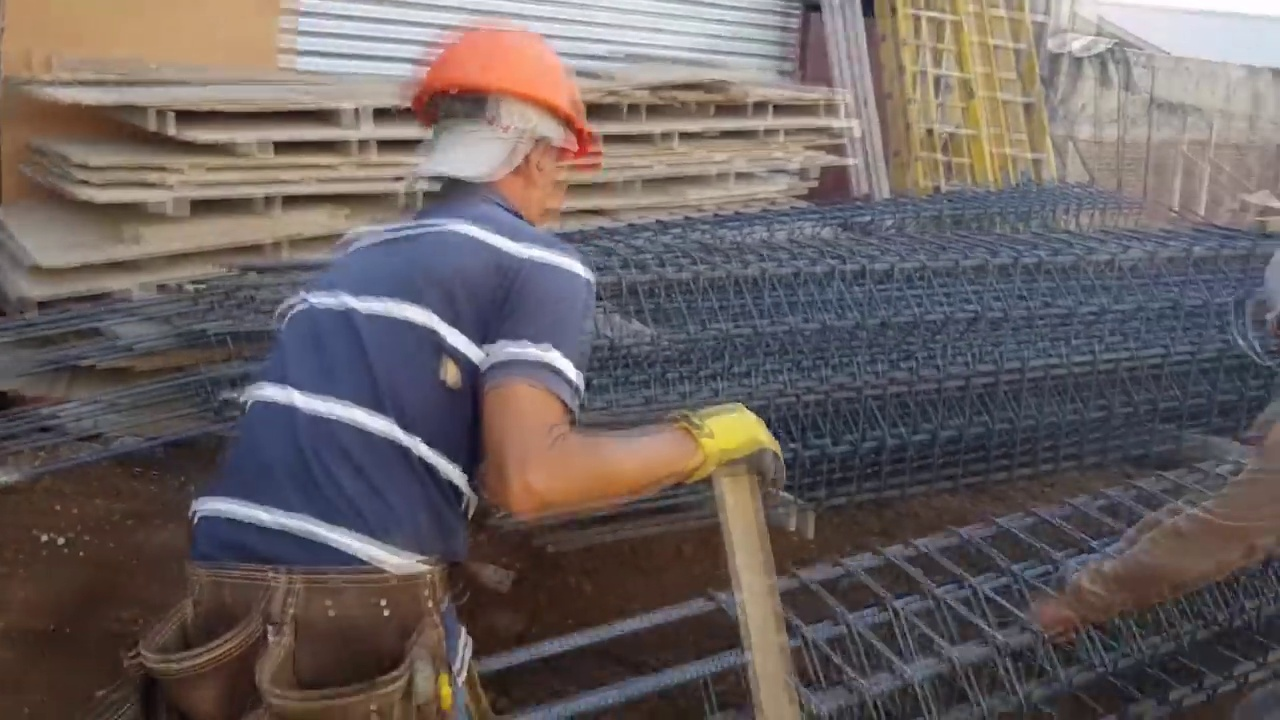helmet: (403, 21, 606, 158)
helmet-on: (404, 23, 607, 238)
person: (128, 21, 783, 714)
